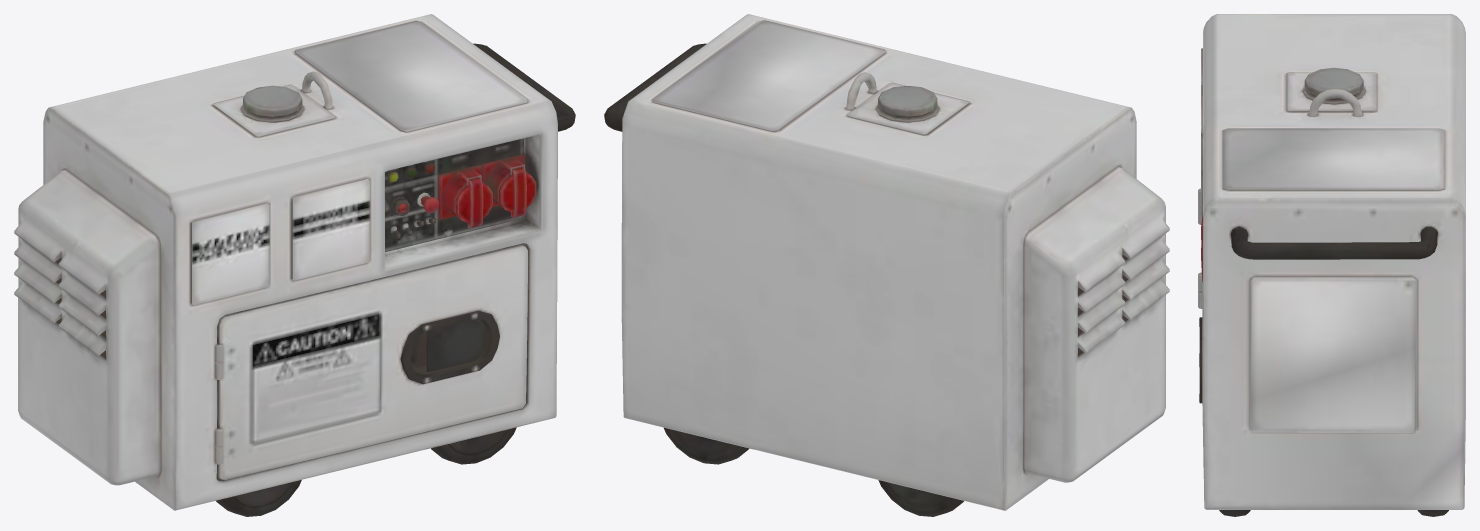
Rendered from scene-diesel.glb.
3 views of the same model, side by side, from view 1: azimuth 30°, elevation 25°; view 2: azimuth 150°, elevation 25°; view 3: azimuth 270°, elevation 25° (orthographic).
Visible parts, largest first — view 1: base; view 2: base; view 3: base.
Boxes of the visible parts, <box> form: base: <box>14,14,575,516</box>; base: <box>604,14,1169,516</box>; base: <box>1198,14,1465,516</box>.
Bounding box in the file's own units: 3.5 × 2.62 × 1.71.
Materials: 1 (1 with a texture image).
